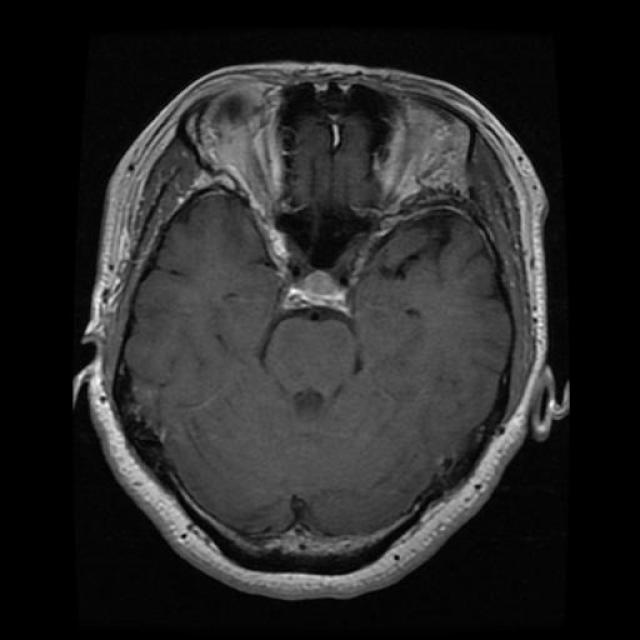pituitary: (256, 202, 374, 334)
